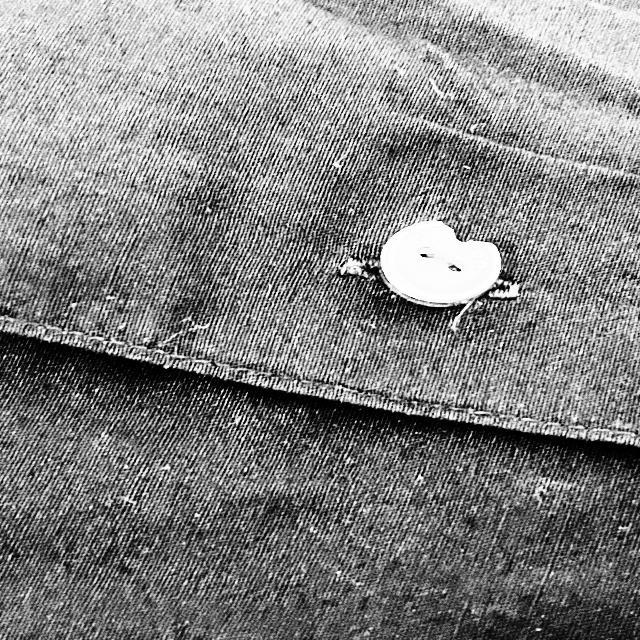Broken_button: (366, 210, 518, 322)
